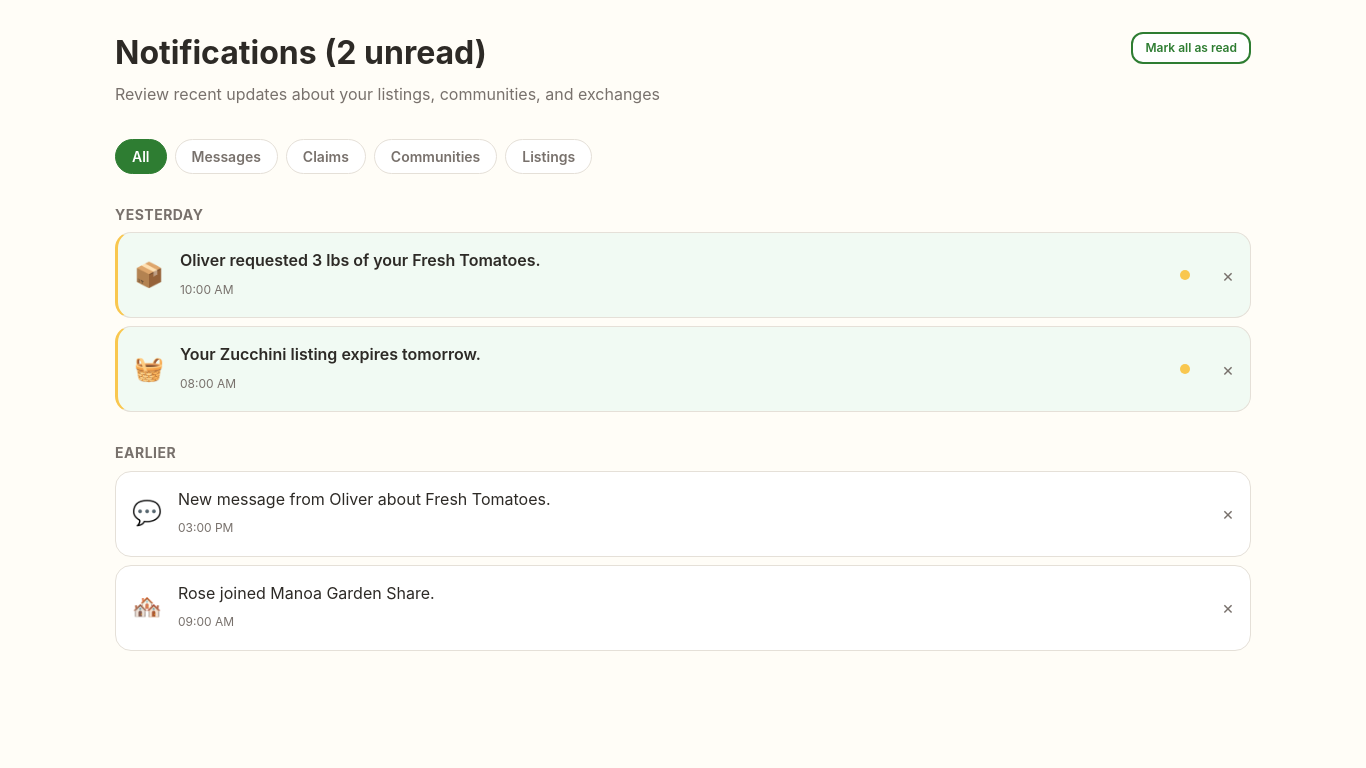
Test: Notifications › filter tabs › filters notifications by type when clicking a tab
Expected: the text "Oliver requested 3 lbs of your Fresh Tomatoes." is shown, x1=180 y1=250 x2=541 y2=270
Click the button "Messages" at (226, 157), box x1=174 y1=139 x2=278 y2=174
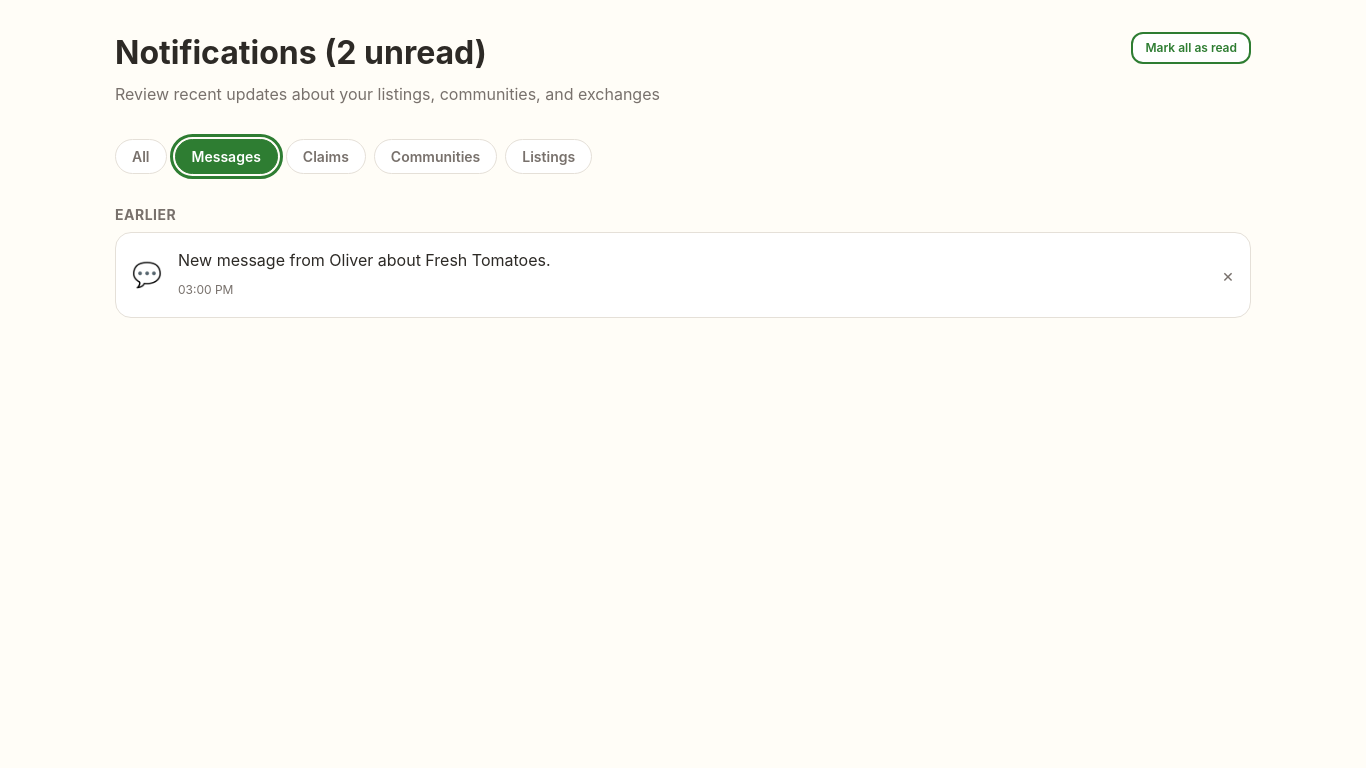
Expected: the text "New message from Oliver about Fresh Tomatoes." is shown, x1=178 y1=250 x2=550 y2=270
Expected: the link "Oliver requested 3 lbs" is gone
